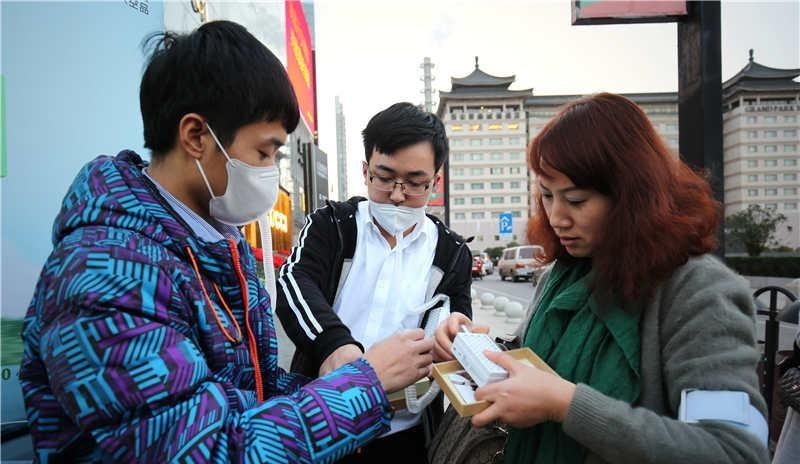face: (542, 165, 609, 255)
face_mask: (211, 113, 285, 221), (368, 147, 434, 221)
